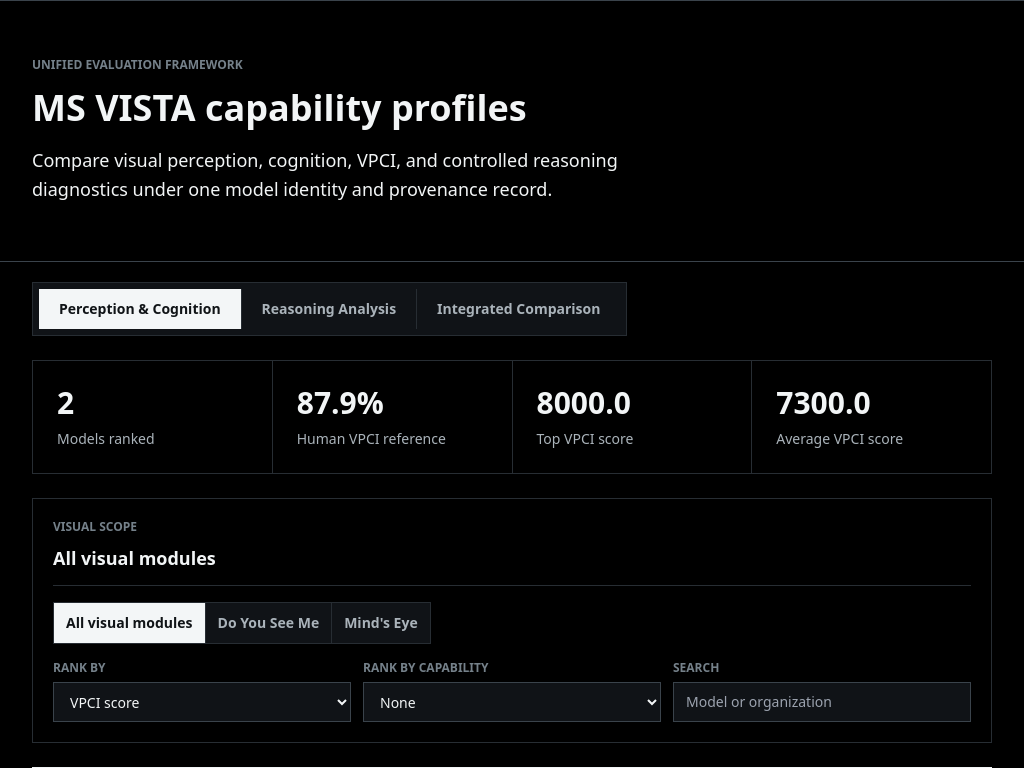
leaderboard filter contracts › changes comparison columns with the selected benchmark scope
What coordinates should you click on to do the following:
click the tab "Integrated Comparison"
I would click on:
 (519, 308)
Its box is [417,288,620,328].
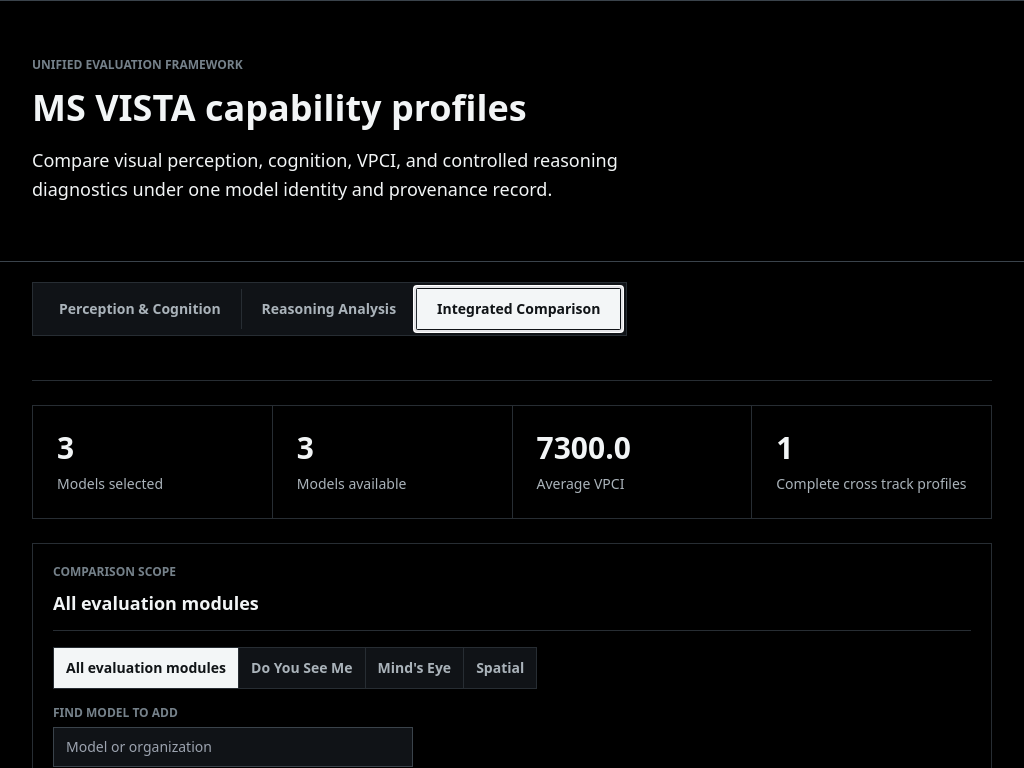
What coordinates should you click on to do the following:
click the button "Do You See Me"
I would click on:
 (302, 668)
Its box is [239,648,366,688].
(page scrolled)
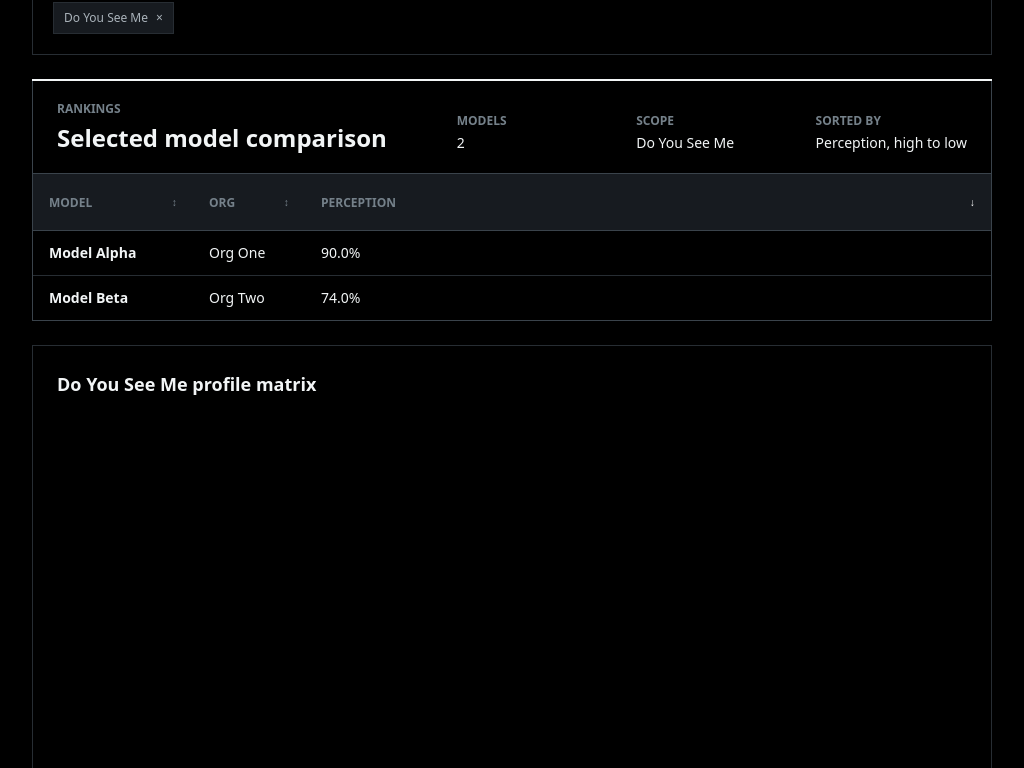
Expected: the column heading "VPCI" is not shown
Expected: the column heading "Perception ↓" is shown, [305,174,991,230]
Expected: the heading "Do You See Me profile matrix" is shown, [57,372,316,396]
